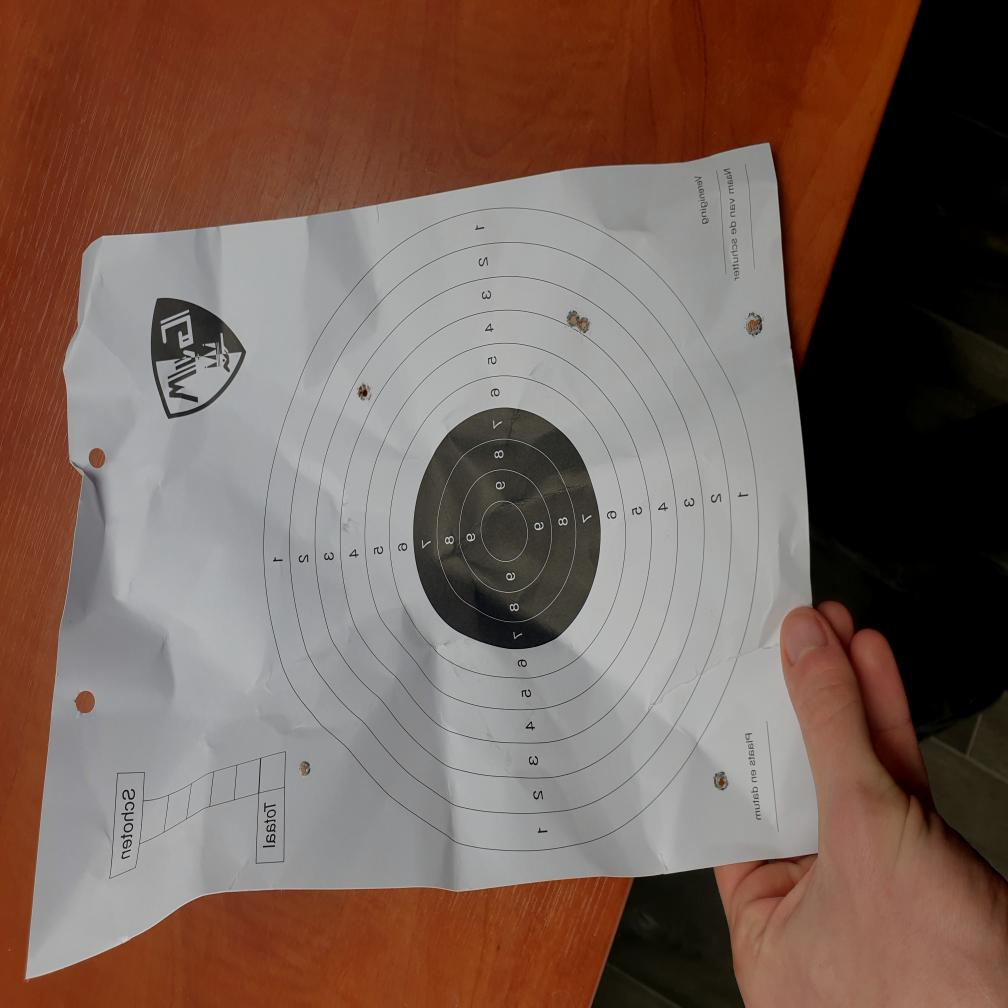0: (745, 311, 763, 338), (712, 771, 728, 790), (298, 760, 311, 778)
3: (356, 382, 372, 402)
4: (565, 309, 579, 333), (578, 315, 592, 338)
Target: (262, 207, 761, 857)
black_contour: (412, 408, 600, 649)
